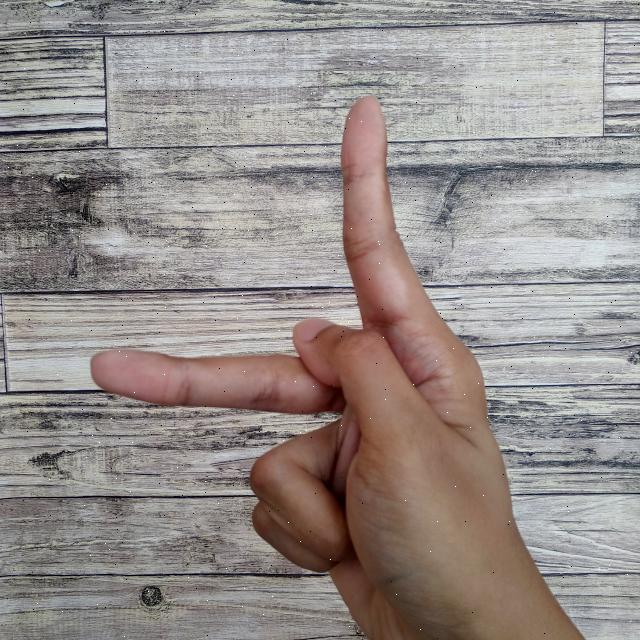K: (83, 87, 590, 640)
